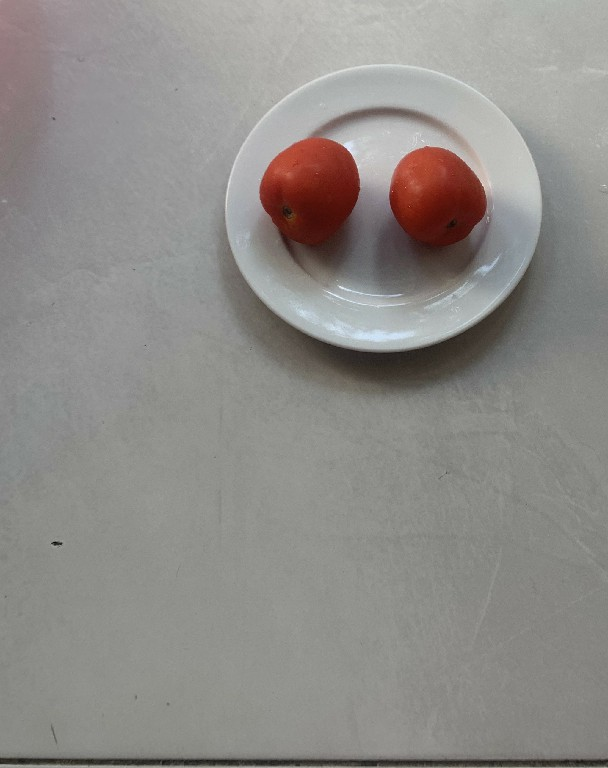OK: (257, 135, 359, 245), (387, 144, 491, 248), (480, 231, 492, 240)
